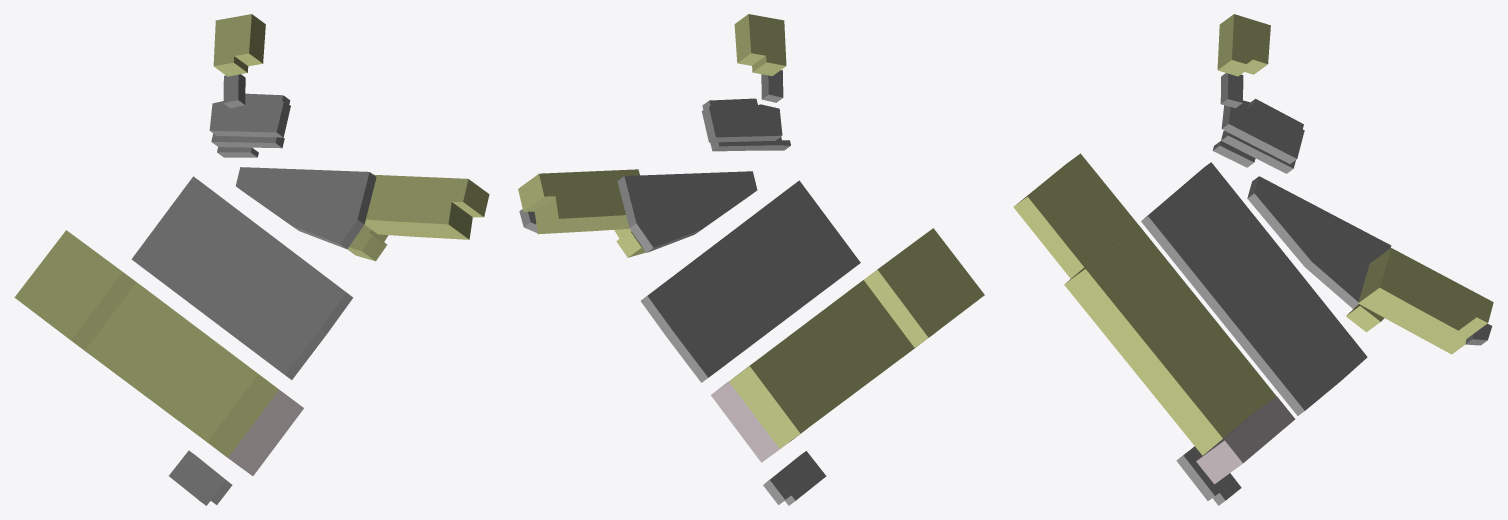
The picture shows the model from 3 angles, left to right: view 1: azimuth 30°, elevation 25°; view 2: azimuth 150°, elevation 25°; view 3: azimuth 330°, elevation 25°; orthographic projection. The views are drawn at different scales.
Parts seen in each view (by area): view 1: 0_1_2_0_1_3_0_2; view 2: 0_1_2_0_1_3_0_2; view 3: 0_1_2_0_1_3_0_2.
Part boxes in pixels (<box>): 0_1_2_0_1_3_0_2: <box>14,14,489,505</box>; 0_1_2_0_1_3_0_2: <box>518,14,984,505</box>; 0_1_2_0_1_3_0_2: <box>1013,14,1493,505</box>.
Bounding box in the file's own units: 112 × 112 × 12.35.
